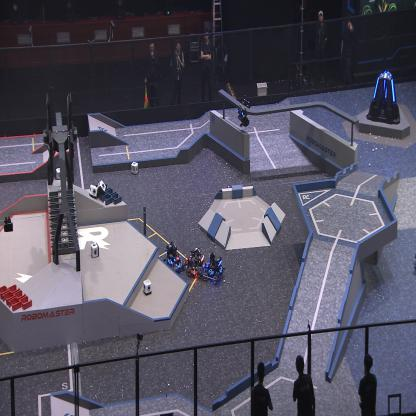car: (185, 247, 206, 281), (203, 250, 225, 281), (164, 244, 184, 274), (183, 244, 187, 248)
